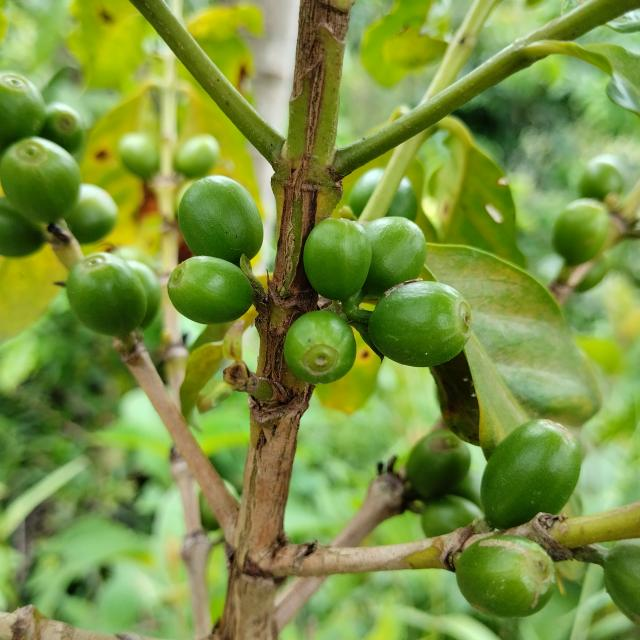green: (481, 420, 582, 530), (369, 281, 472, 367), (456, 536, 557, 619), (178, 175, 263, 265), (66, 252, 146, 337), (167, 256, 253, 324), (303, 218, 372, 300), (284, 311, 356, 384), (363, 216, 427, 298), (126, 260, 161, 329)
